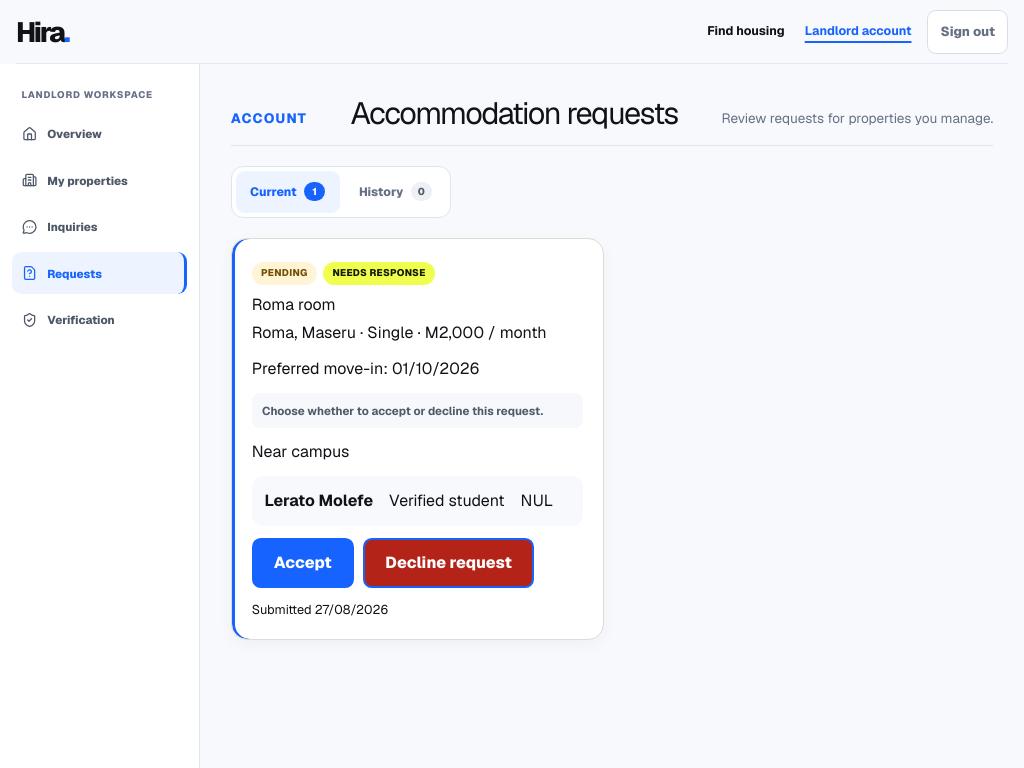
Test: RequestList › requires and submits a visible decline reason for a LANDLORD owner
Click the button "Decline request": (449, 563) x1=363 y1=538 x2=534 y2=588
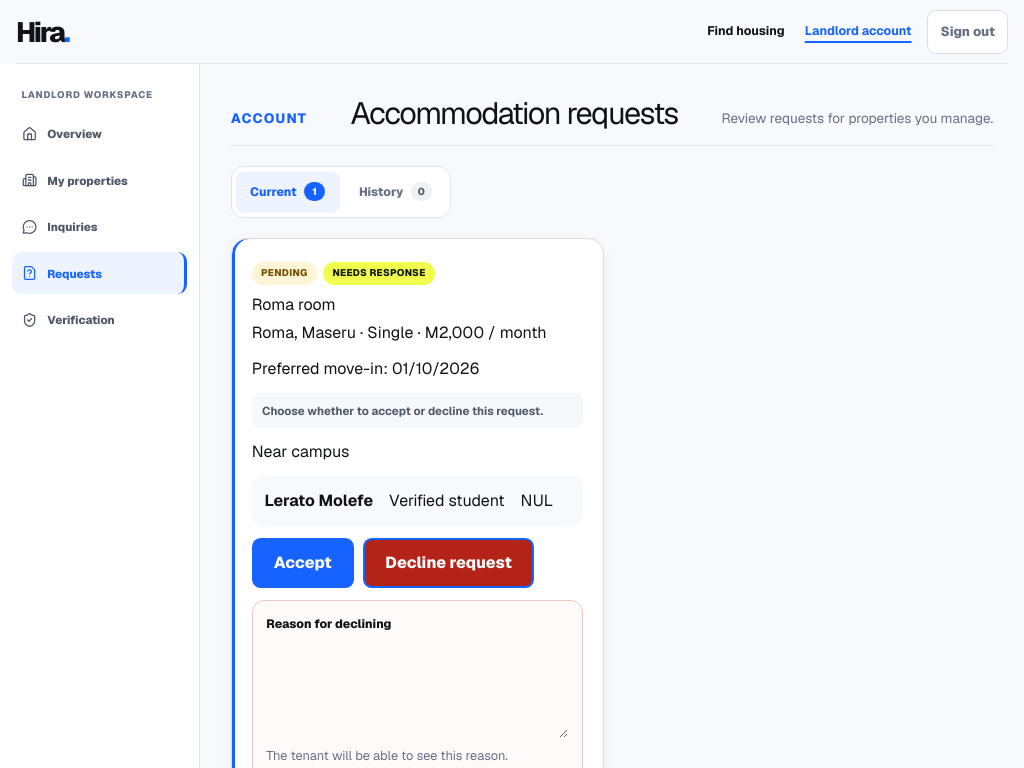
In the text box labelled "Reason for declining": (417, 690) x1=266 y1=642 x2=568 y2=738, type "  The room is unavailable for that date.  "
(page scrolled)
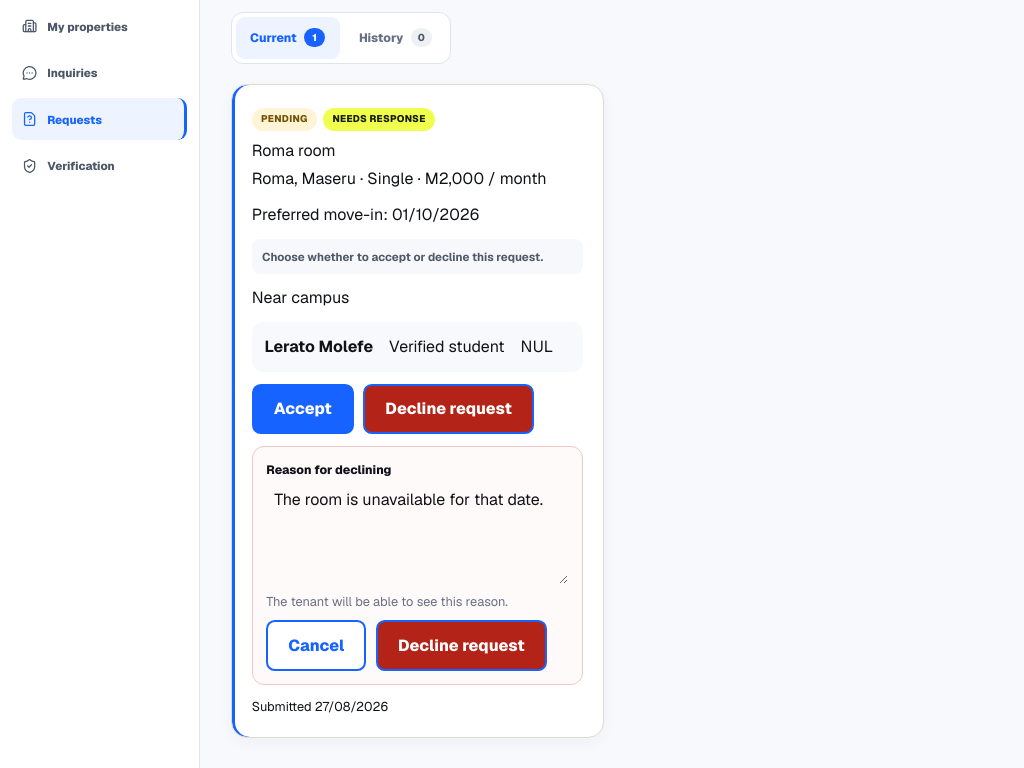
Result: the button "Decline request" below "Reason for declining" is enabled
Click the button "Decline request" below "Reason for declining": (461, 646) x1=376 y1=620 x2=546 y2=671
(page scrolled)
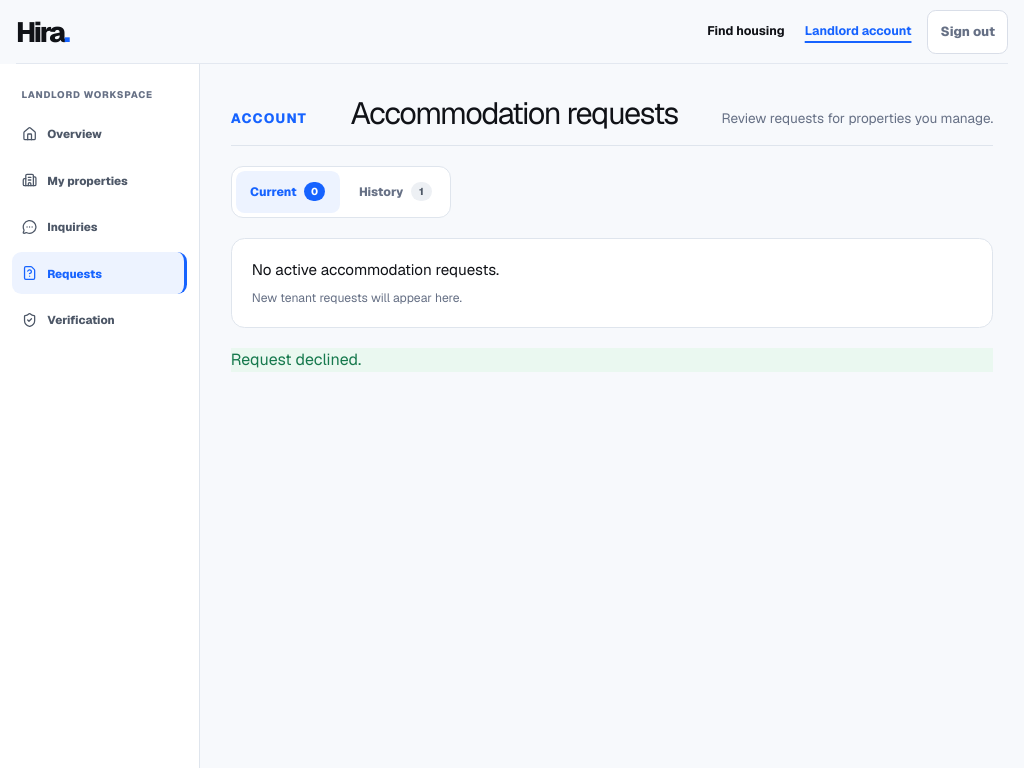
Result: the text "Request declined." is shown at x1=231 y1=348 x2=993 y2=372
Click the tab "History 1": (396, 192) x1=344 y1=171 x2=446 y2=213
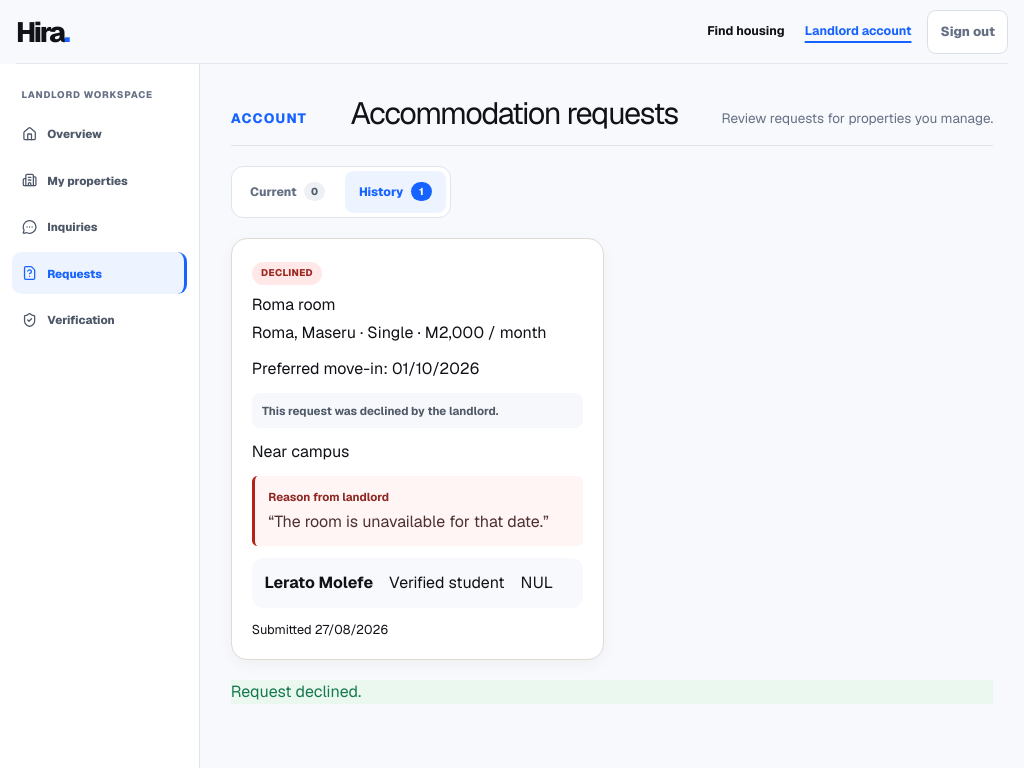
Result: the text "Reason from landlord" is shown at x1=268 y1=489 x2=389 y2=504
